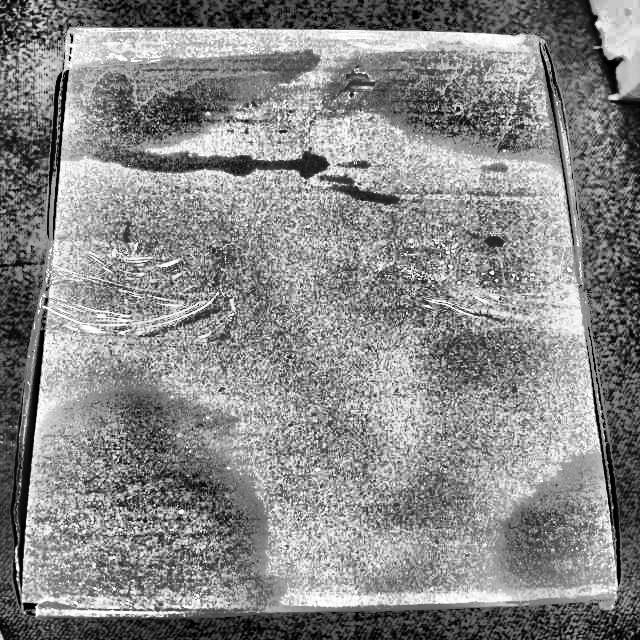box: (11, 18, 640, 628)
wet: (24, 387, 275, 606), (38, 40, 318, 174), (357, 34, 570, 166), (487, 451, 630, 610)
